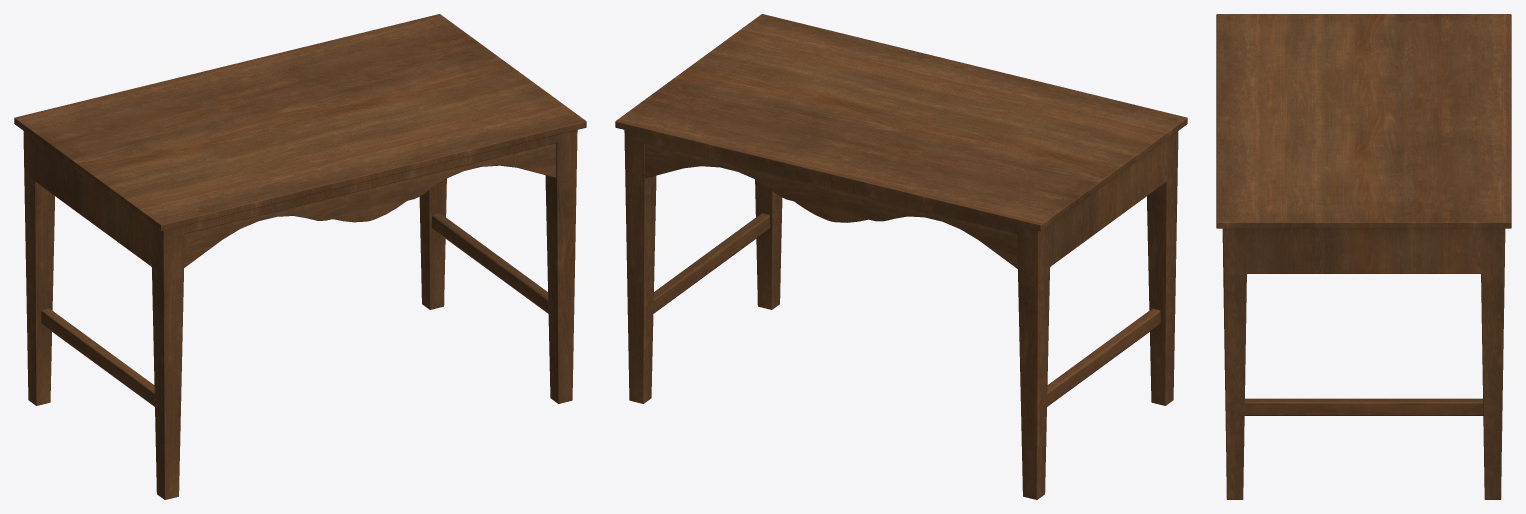
File: simple_old_wooden_table.glb
The picture shows the model from 3 angles, left to right: view 1: azimuth 30°, elevation 25°; view 2: azimuth 150°, elevation 25°; view 3: azimuth 270°, elevation 25°; orthographic projection.
Visible parts, largest first — view 1: old_table; view 2: old_table; view 3: old_table.
Boxes of the visible parts, x1,y1,x2,y2 form: old_table: [14, 14, 586, 499]; old_table: [615, 14, 1187, 499]; old_table: [1216, 14, 1511, 499].
Bounding box in the file's own units: 1.02 × 0.6449 × 0.611.
1 material, 1 textured.
